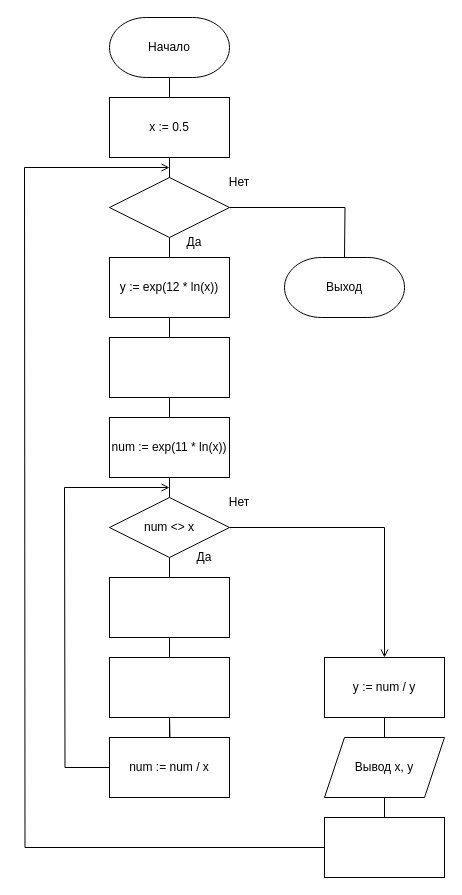
This 462x895 diagram has some shape labels left out. The shapes that lost their labels are listed below. From the top down, each one's centre as x and y in pixels, then its label:
At point 169,207: "x <= 0.8".
At point 169,367: "k := exp(11 * ln(x))".
At point 169,607: "y := k + num / y".
At point 169,687: "k := k / x".
At point 384,847: "x := x + 0.05".
